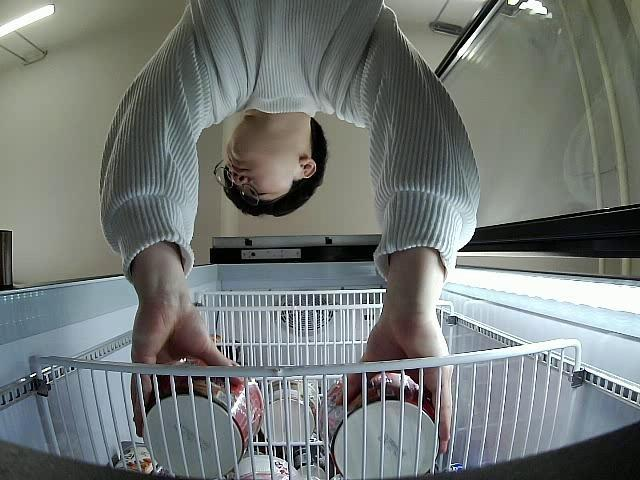01_ShinRamen_L: (144, 365, 268, 476), (322, 373, 444, 480)
